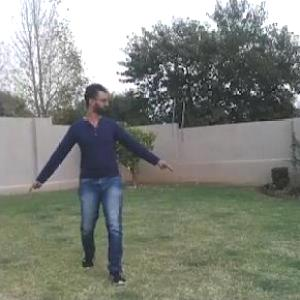land: (20, 81, 176, 286)
